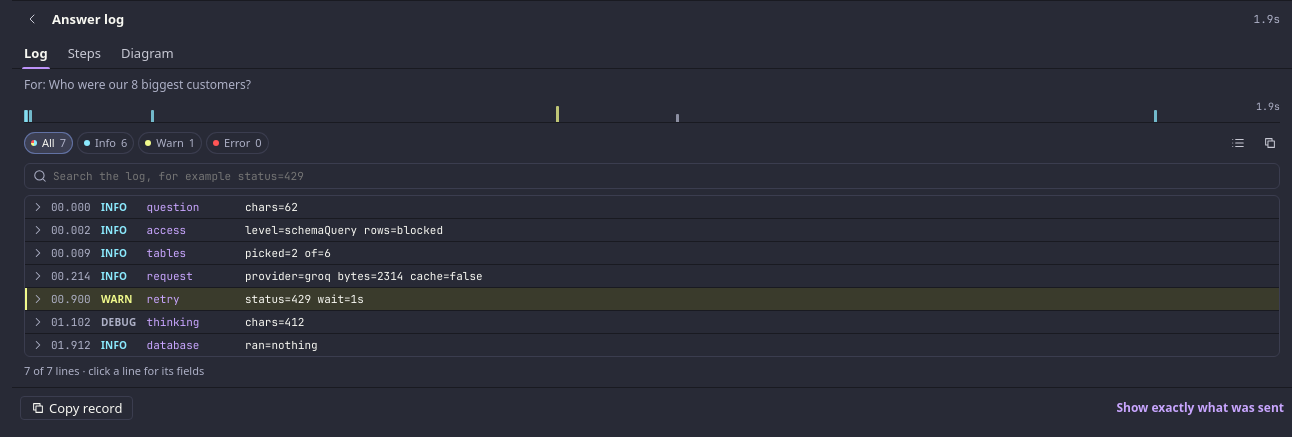
it: empty_level_says_so
Click the button "Error 0". click: (237, 143)
box: x1=206 y1=132 x2=269 y2=154
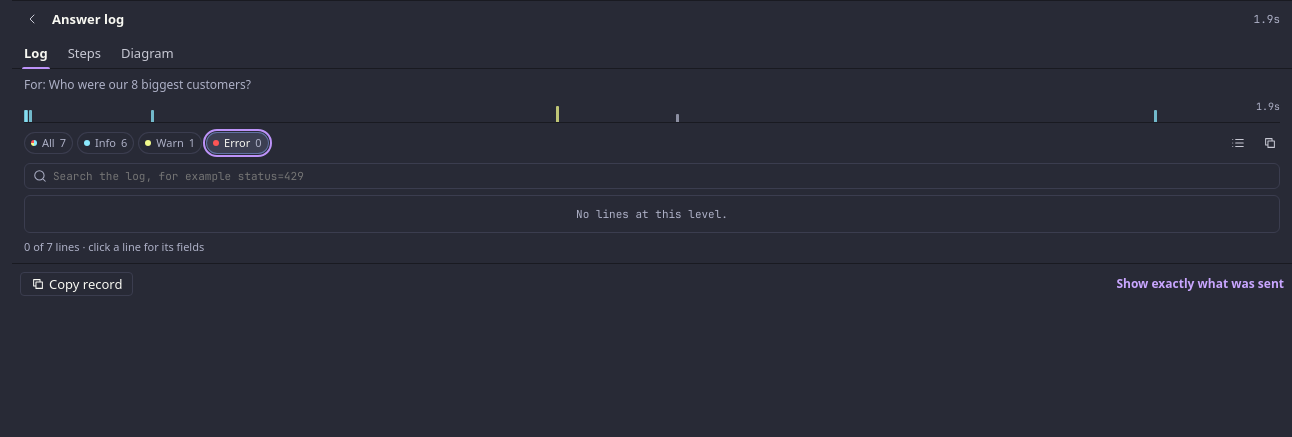
Result: the text "No lines at this level." is shown at x1=576 y1=207 x2=728 y2=221
